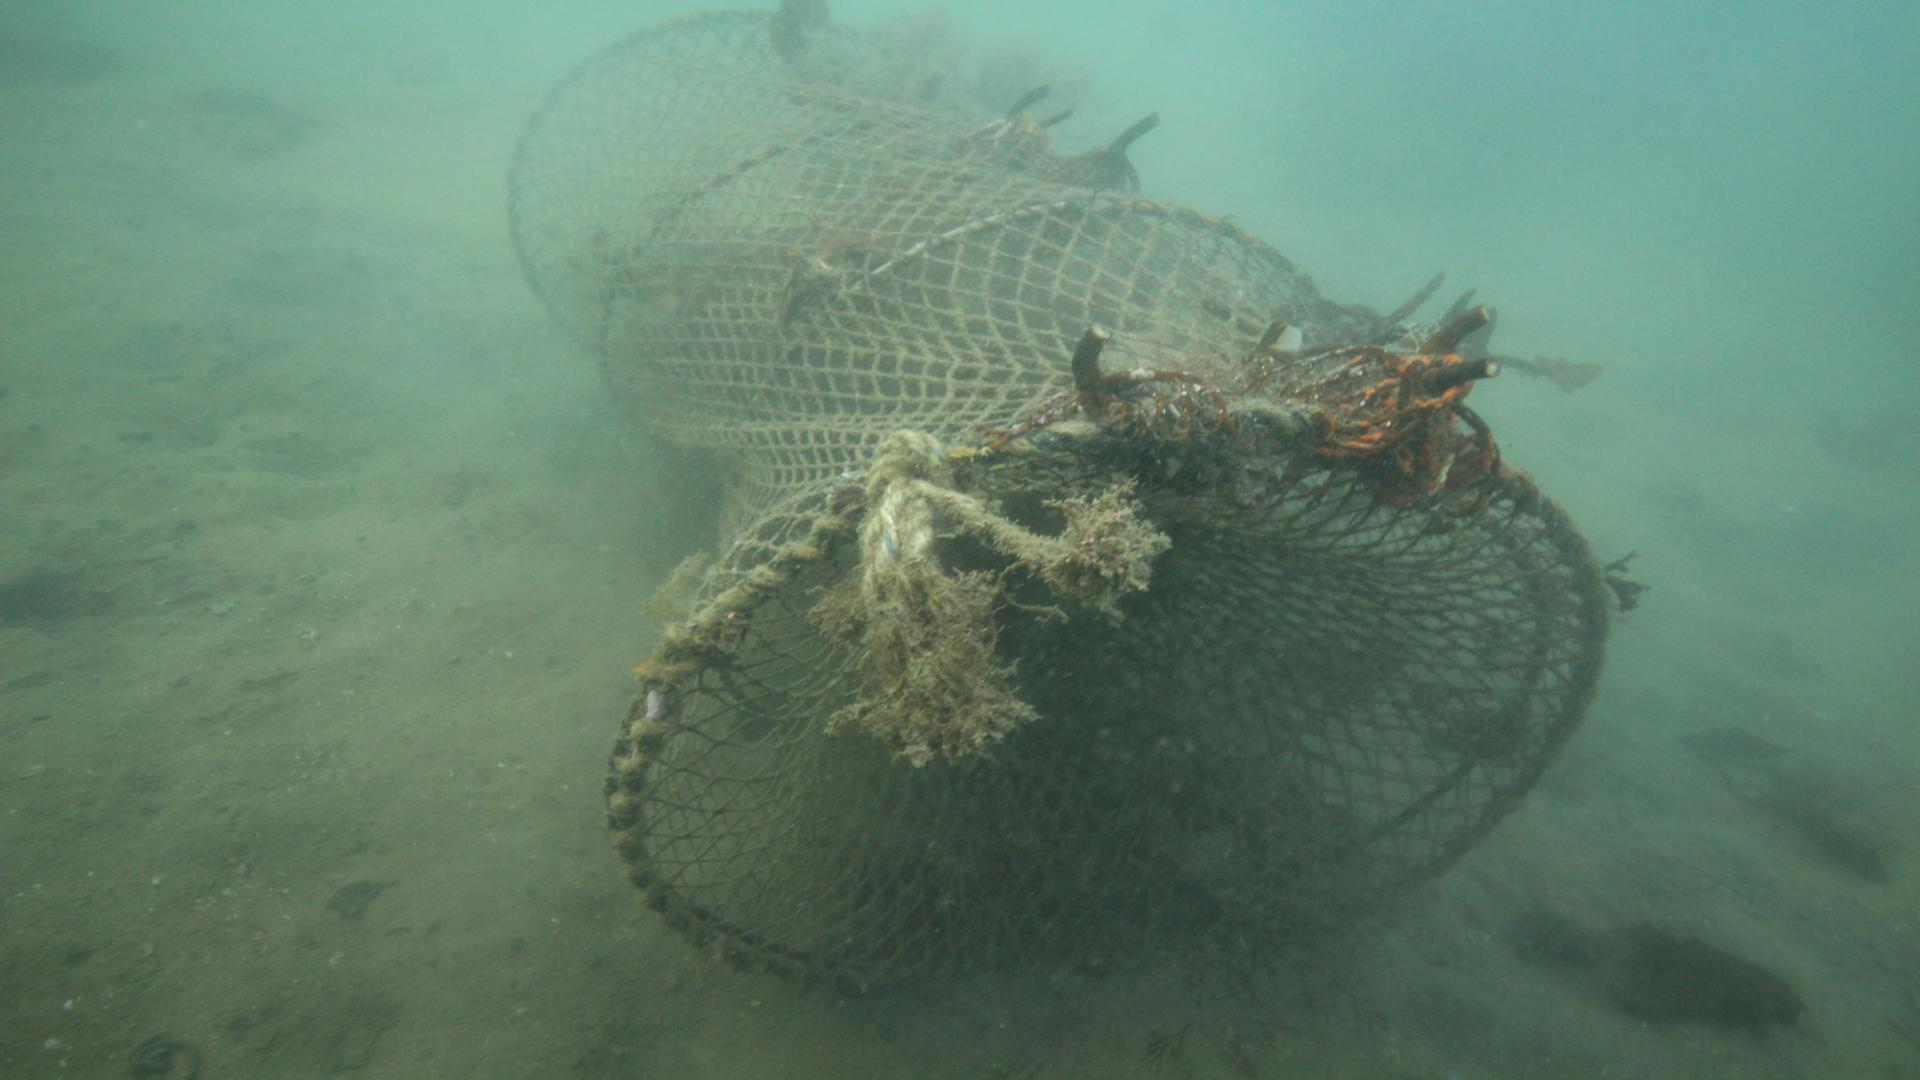spring fish trap: (502, 7, 1611, 1000)
